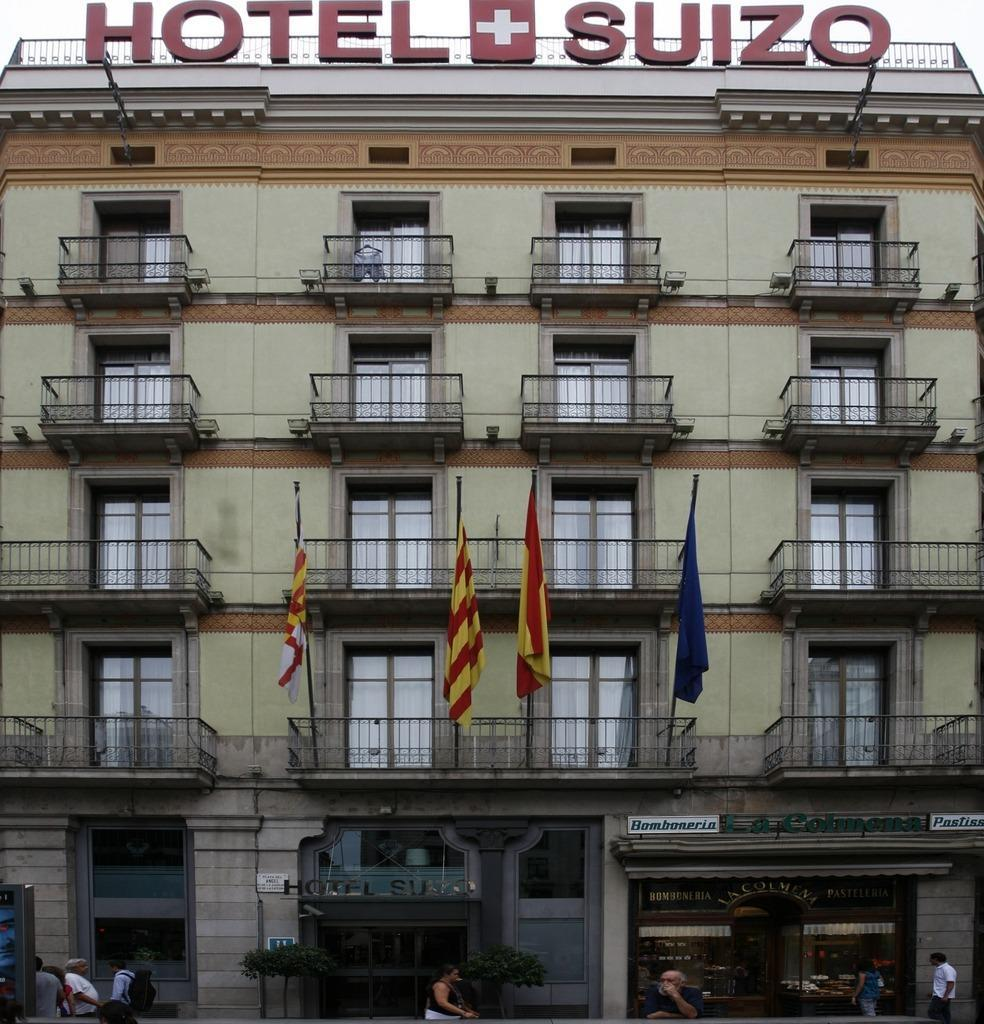window: (550, 641, 642, 769), (346, 643, 437, 770), (82, 642, 173, 769), (810, 641, 896, 768), (84, 479, 170, 591), (347, 477, 432, 590), (554, 479, 639, 591), (813, 479, 898, 591), (555, 336, 640, 423), (348, 335, 433, 422), (85, 334, 170, 421), (812, 339, 891, 424), (94, 199, 169, 282), (355, 201, 430, 284), (556, 203, 631, 286), (813, 206, 888, 289), (826, 151, 871, 170), (572, 148, 617, 166), (112, 148, 155, 165), (369, 147, 409, 165)
